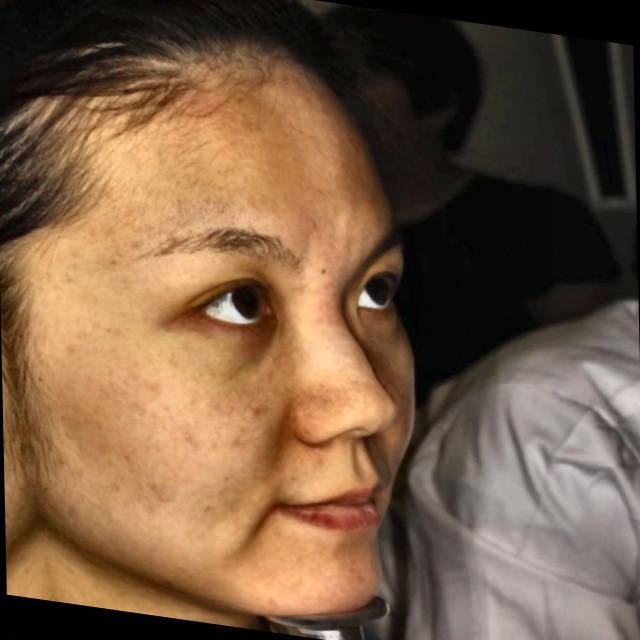comedone: (246, 397, 271, 423)
